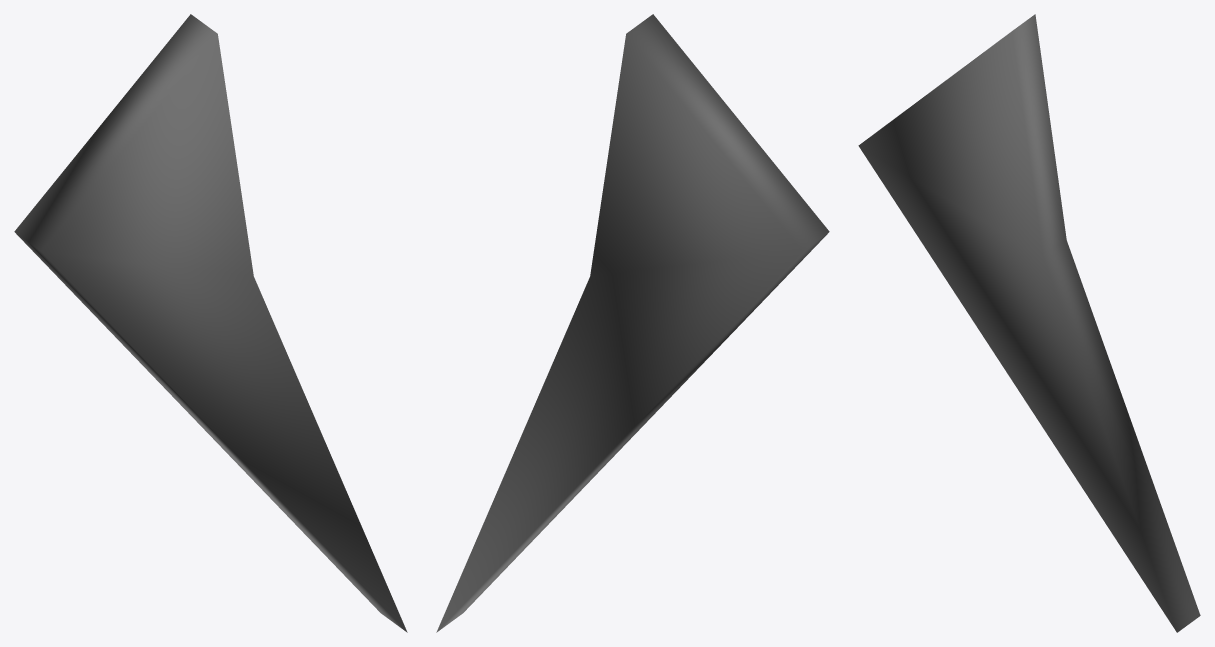
File: Shard8.fbx
3 views of the same model, side by side, from view 1: azimuth 30°, elevation 25°; view 2: azimuth 150°, elevation 25°; view 3: azimuth 330°, elevation 25° (orthographic). The views are drawn at different scales.
Parts seen in each view (by area): view 1: Shard.008; view 2: Shard.008; view 3: Shard.008.
Boxes of the visible parts, bbox=[...] form: Shard.008: bbox=[14, 14, 407, 632]; Shard.008: bbox=[436, 14, 829, 632]; Shard.008: bbox=[858, 14, 1200, 632].
Bounding box in the file's own units: 7.83 × 13.18 × 1.
Materials: 1 (1 with a texture image).
